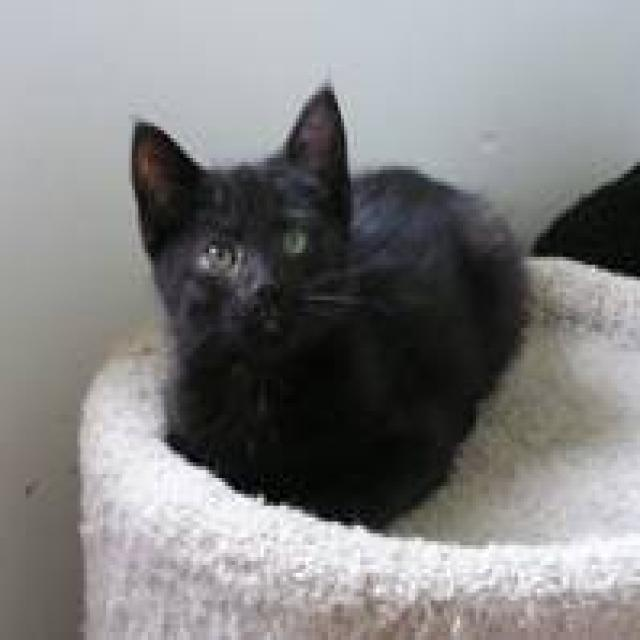cat: (125, 79, 530, 529)
